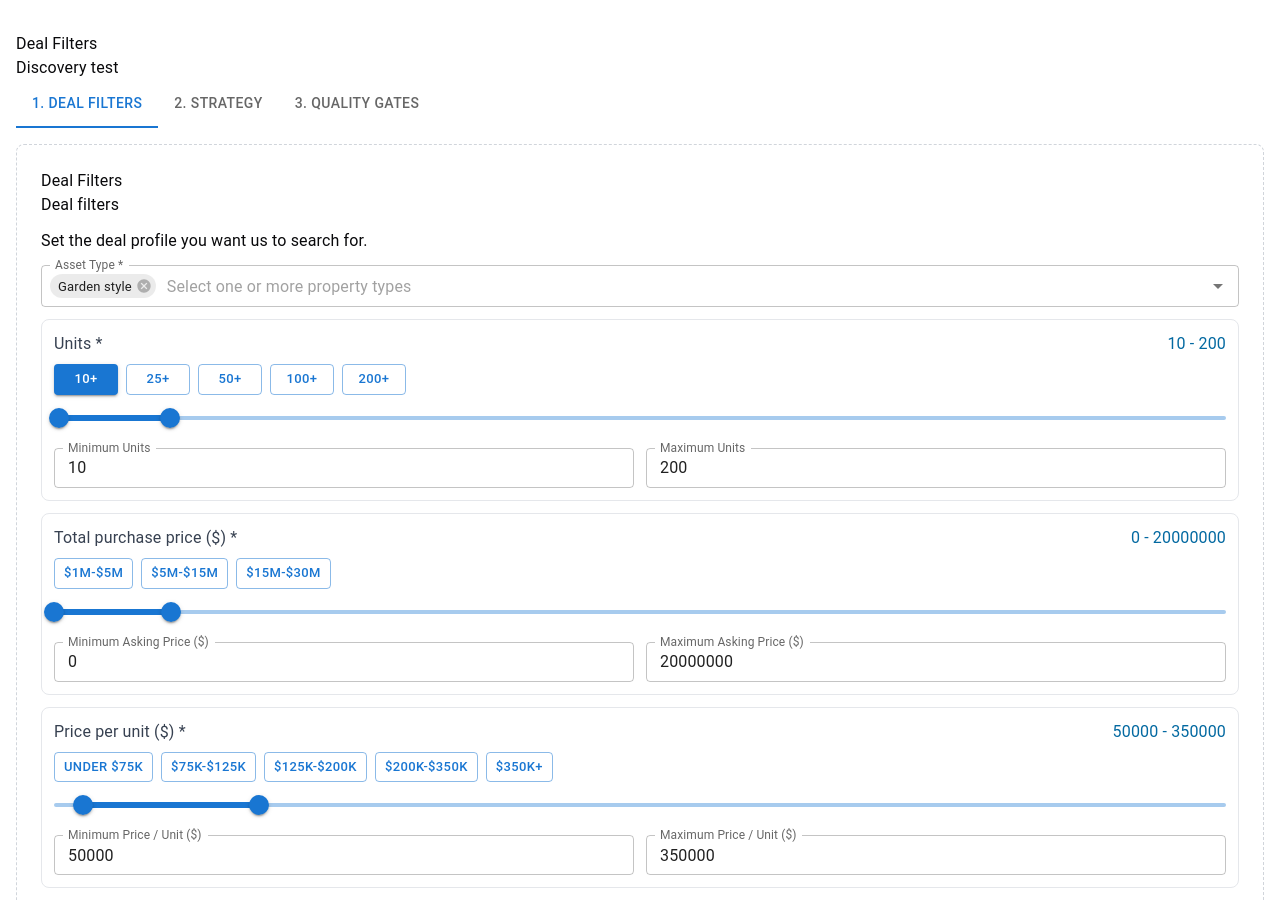
it: MultifamilyTabsSkeleton › does not render visibility mode selector and keeps strategy controls available
What coordinates should you click on to do the following:
click the tab "2. Strategy"
I would click on:
 (219, 104)
Its box is [158,80,279,128].
(page scrolled)
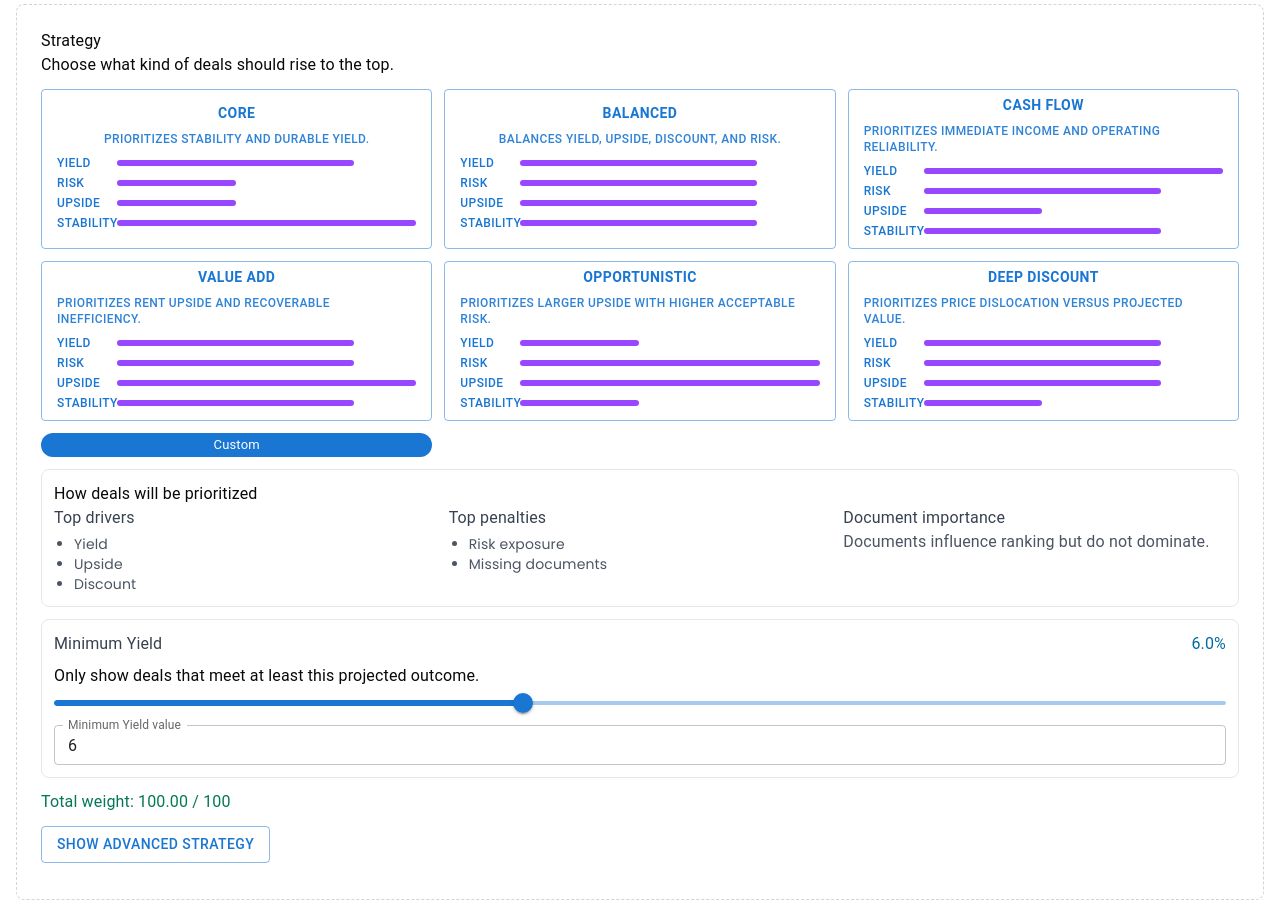
Check: the button "Show Advanced Strategy" is shown, box [41,826,270,862]
